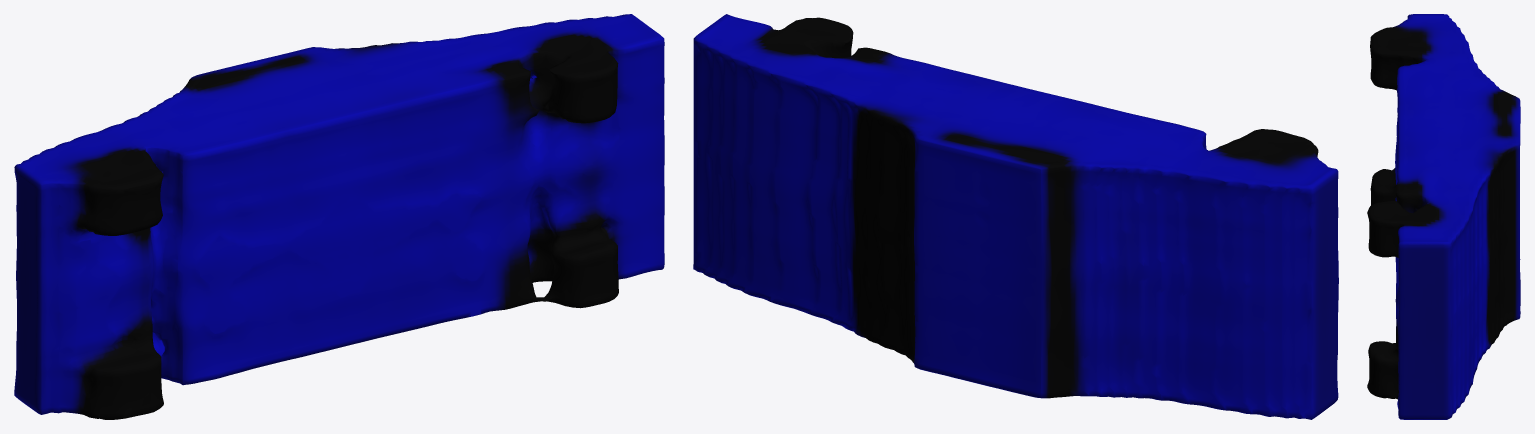
The model's file is A_car.FBX.
3 renders of one model, left to right at view 1: azimuth 30°, elevation 25°; view 2: azimuth 150°, elevation 25°; view 3: azimuth 270°, elevation 25°, orthographic. The views are drawn at different scales.
Parts seen in each view (by area): view 1: plyFile; view 2: plyFile; view 3: plyFile.
Part boxes in pixels (box(x1,y1,x2,y2)): plyFile: box(14, 14, 664, 419); plyFile: box(693, 14, 1338, 419); plyFile: box(1367, 14, 1520, 419).
Size of the model in its own units: 198 by 71.56 by 55.94.
